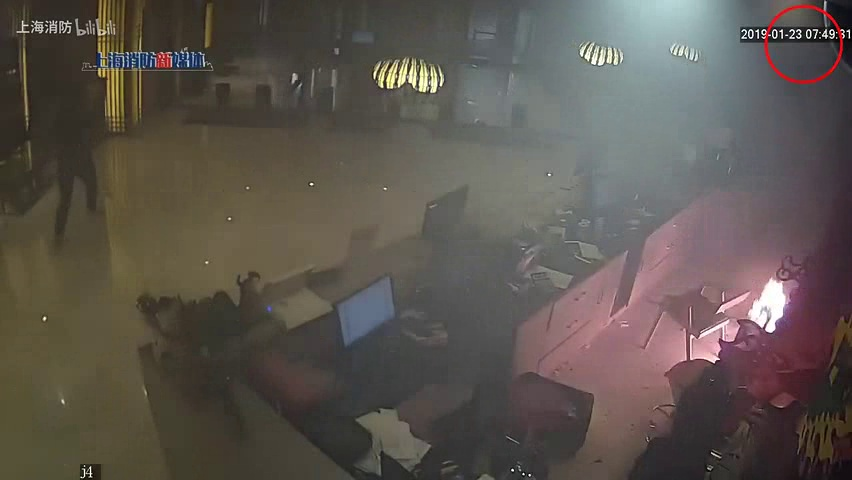fire: (747, 274, 791, 338)
